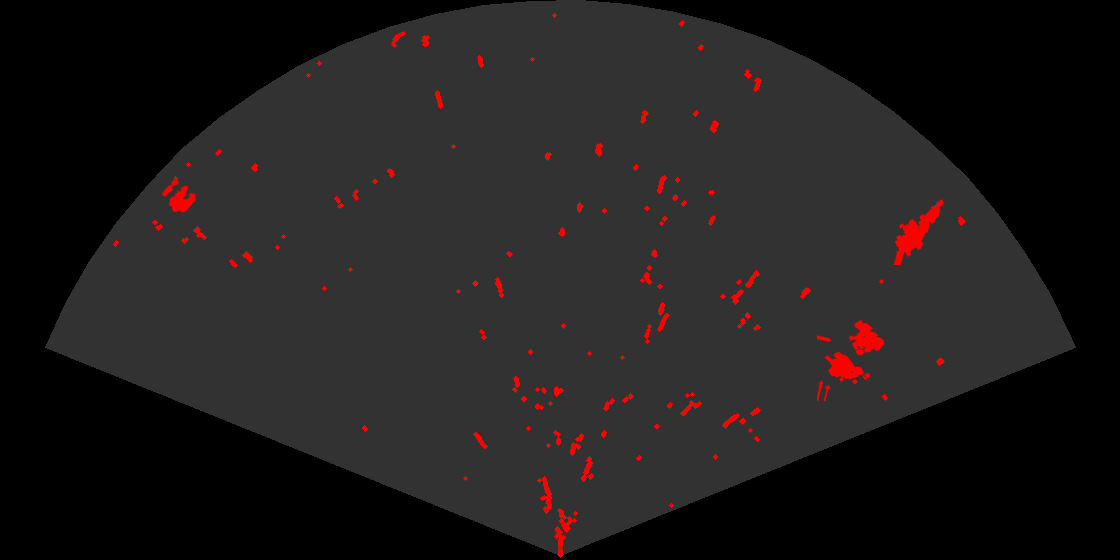ball: (161, 178, 198, 214)
cage: (817, 318, 886, 401)
frogman: (892, 198, 945, 265)
